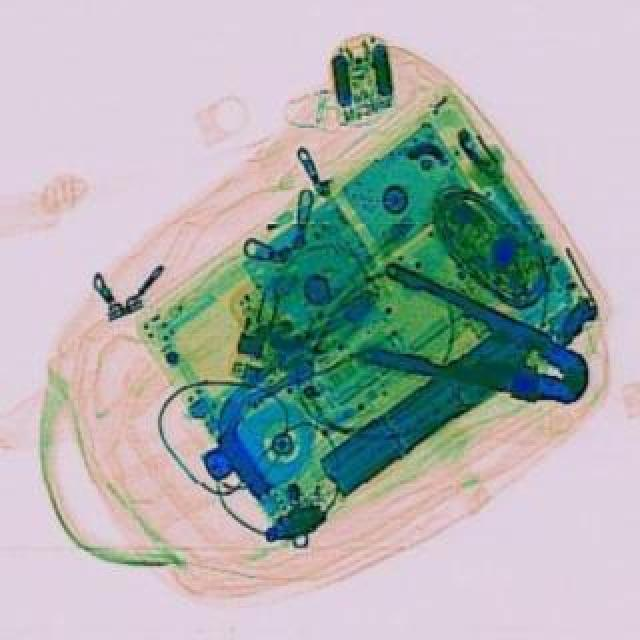wrench: (348, 266, 604, 434)
